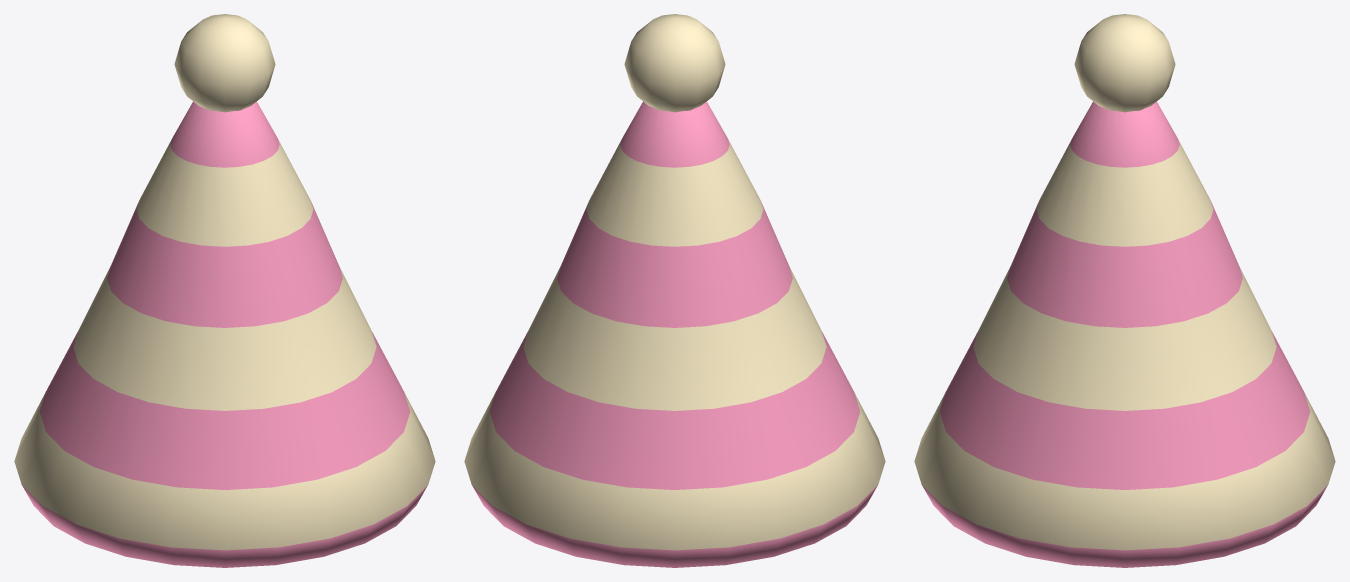
File: hat_party.glb
3 renders of one model, left to right at view 1: azimuth 30°, elevation 25°; view 2: azimuth 150°, elevation 25°; view 3: azimuth 270°, elevation 25°, orthographic.
Parts seen in each view (by area): view 1: PartyCone, PomPom; view 2: PartyCone, PomPom; view 3: PartyCone, PomPom.
Boxes of the visible parts, x1,y1,x2,y2 form: PartyCone: (14, 101, 435, 567); PomPom: (174, 14, 275, 112); PartyCone: (464, 101, 885, 567); PomPom: (624, 14, 725, 112); PartyCone: (914, 101, 1335, 567); PomPom: (1074, 14, 1175, 112).
Size of the model in its own units: 0.1 by 0.122 by 0.1.
Materials: 1 (1 with a texture image).
